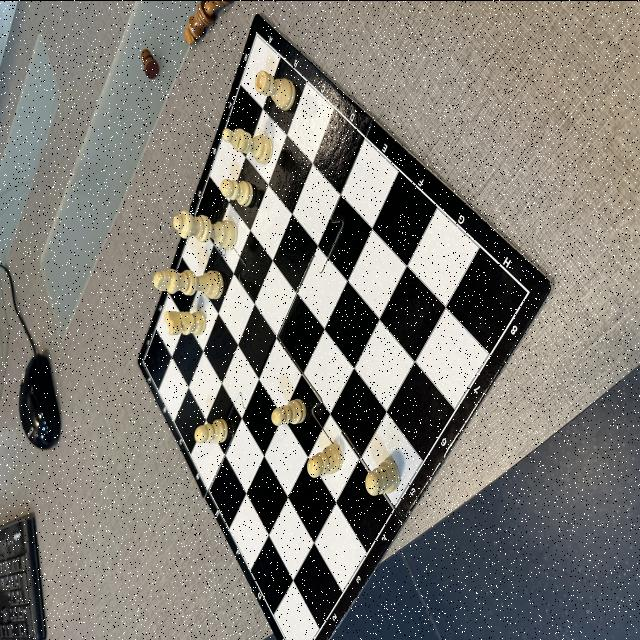Black-King: (184, 0, 234, 45)
Black-Pawn: (140, 46, 160, 79)
White-Bishop: (222, 127, 274, 164)
White-King: (154, 268, 224, 298)
White-Knight: (164, 309, 207, 335)
White-Pawn: (365, 459, 400, 495), (307, 443, 343, 477), (270, 396, 306, 426), (220, 178, 253, 206), (194, 417, 228, 442)
White-Queen: (172, 209, 238, 249)
White-Rook: (254, 69, 296, 110)
